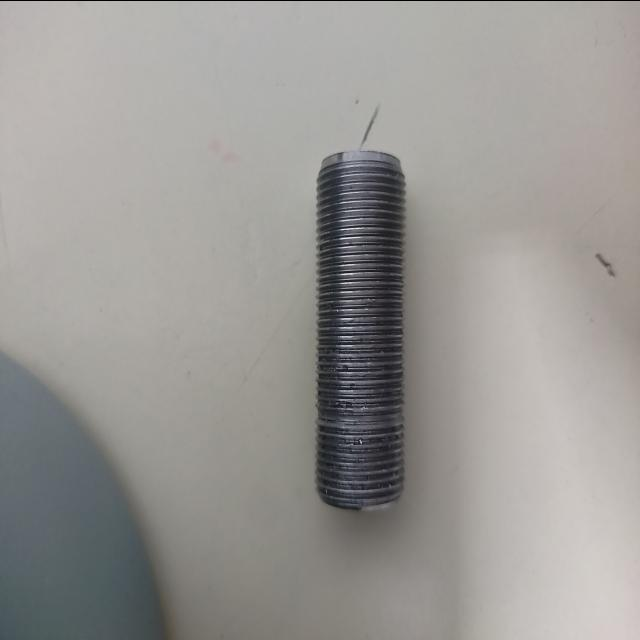Broken: (314, 150, 406, 508)
